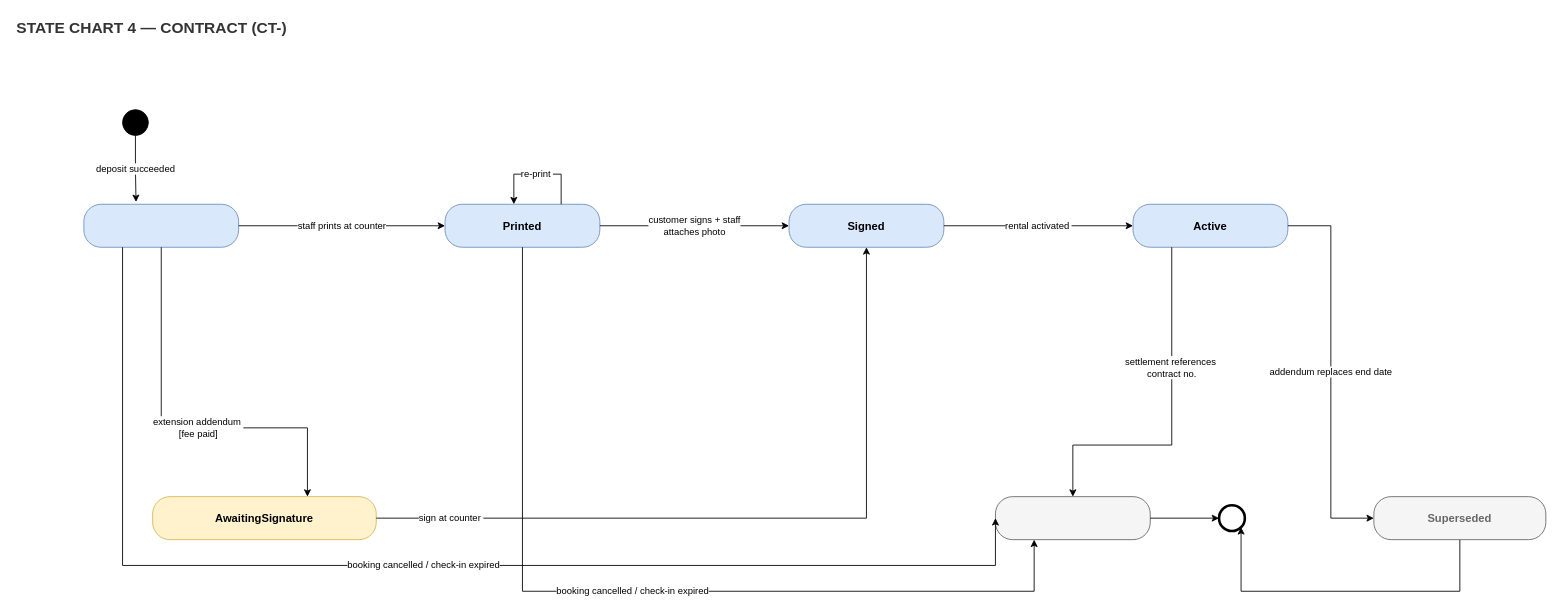
The diagram is 1561 pixels wide and 613 high, and some of its shapes have lost their labels. Each missing label, with the centre of its shape:
"Closed" belongs at (1072,518).
"Draft" belongs at (161,225).
